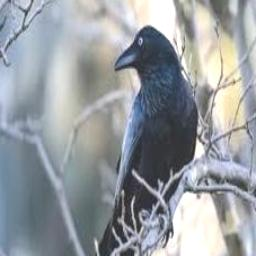Crow: (95, 25, 198, 256)
